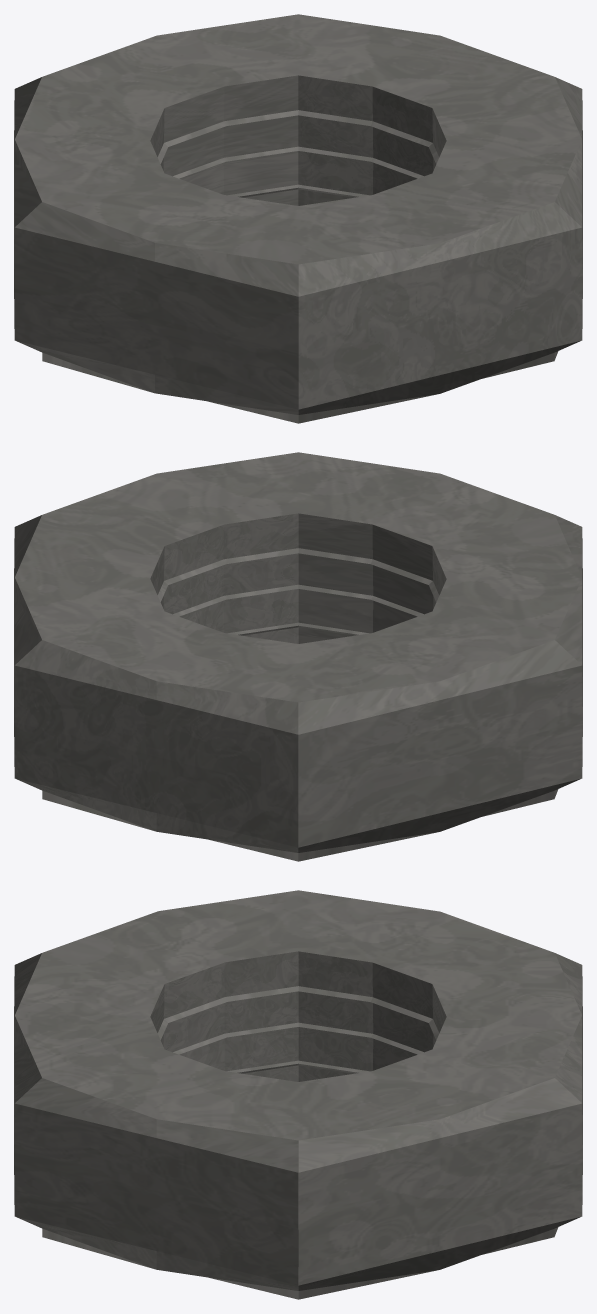
File: boulons.fbx
The picture shows the model from 3 angles, top to bottom: view 1: azimuth 30°, elevation 25°; view 2: azimuth 150°, elevation 25°; view 3: azimuth 270°, elevation 25°; orthographic projection.
Parts seen in each view (by area): view 1: Torus; view 2: Torus; view 3: Torus.
Boxes of the visible parts, box(x1,y1,x2,y2) form: Torus: box(14, 14, 582, 423); Torus: box(14, 452, 582, 861); Torus: box(14, 890, 582, 1299).
Size of the model in its own units: 186 by 52.4 by 161.
1 material, 1 textured.
